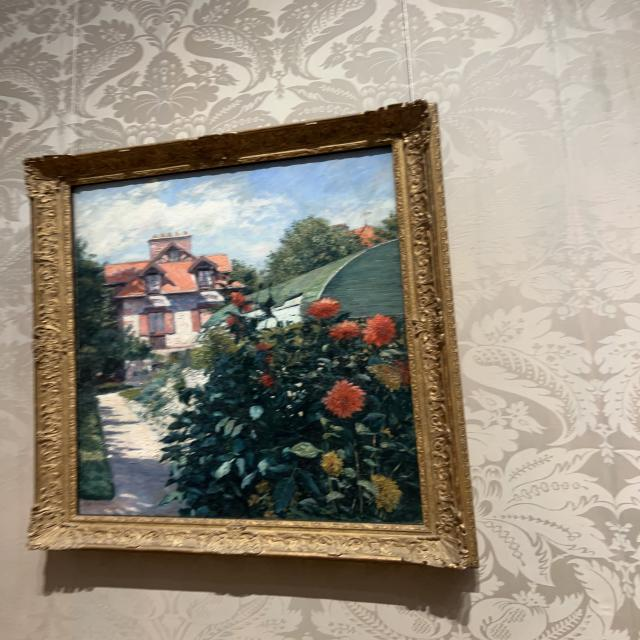summer: (77, 156, 417, 520)
